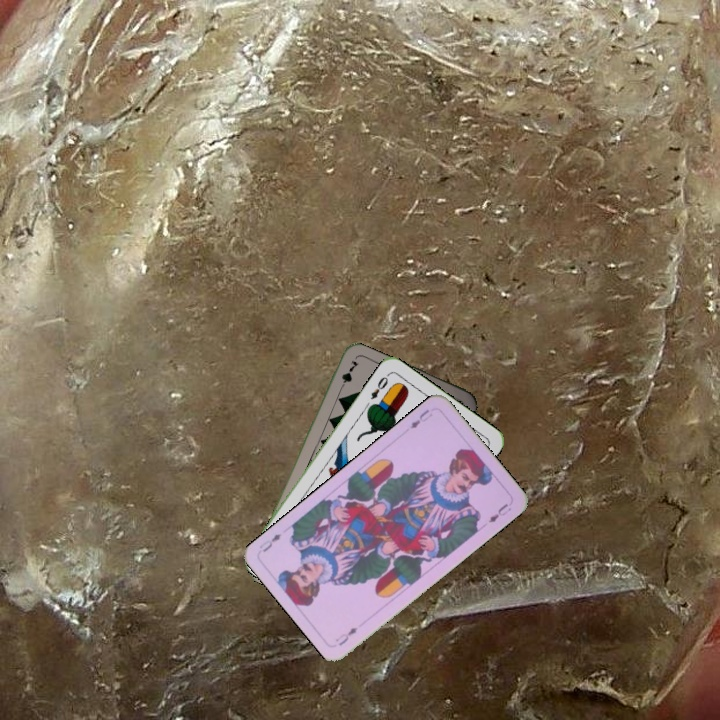EO: (367, 370, 392, 402)
EU: (406, 405, 435, 431), (331, 623, 360, 648)
G7: (335, 356, 359, 395)
